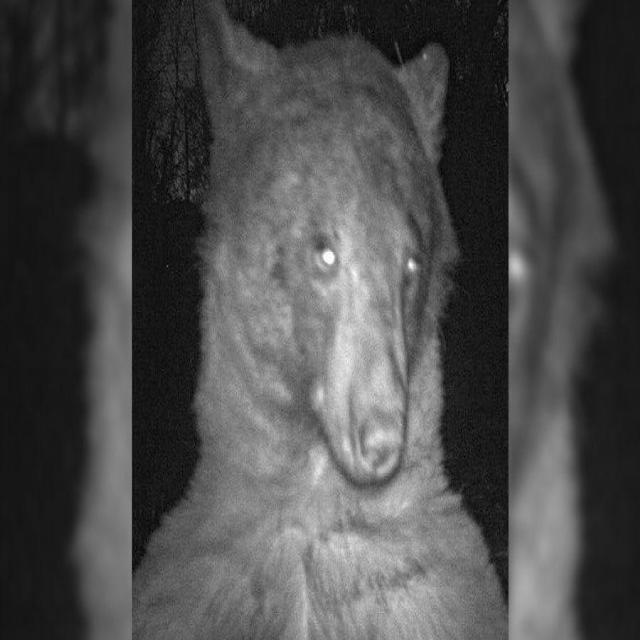Bear: (129, 0, 509, 640)
